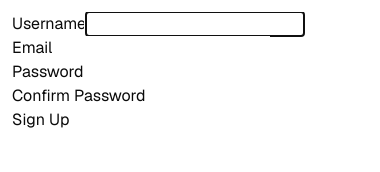
Test: SignUpForm Email Validation › shows error when empty email
This screenshot has width=380, height=172.
Type "ValidUser1" into the field labelled "Username".
click(195, 24); type("ValidUser1")  # box [86, 12, 304, 36]
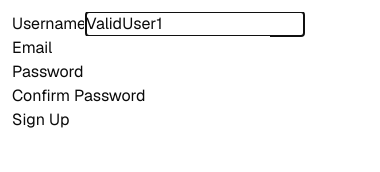
Type "ValidPass123!" into the password field labelled "Password".
click(192, 72); type("ValidPass123!")  # box [84, 60, 302, 84]
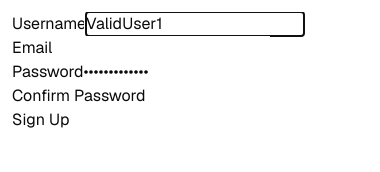
Type "ValidPass123!" into the password field labelled "Confirm Password".
click(254, 96); type("ValidPass123!")  # box [146, 84, 364, 108]
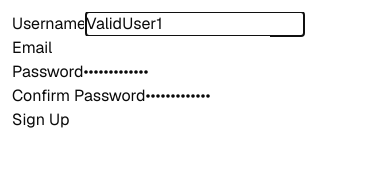
Click the button "Sign Up".
click(41, 120)  # box [12, 108, 70, 132]
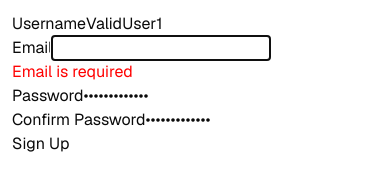
Result: the text with test id "email-error" reads "Email is required" at [12, 61, 133, 82]
